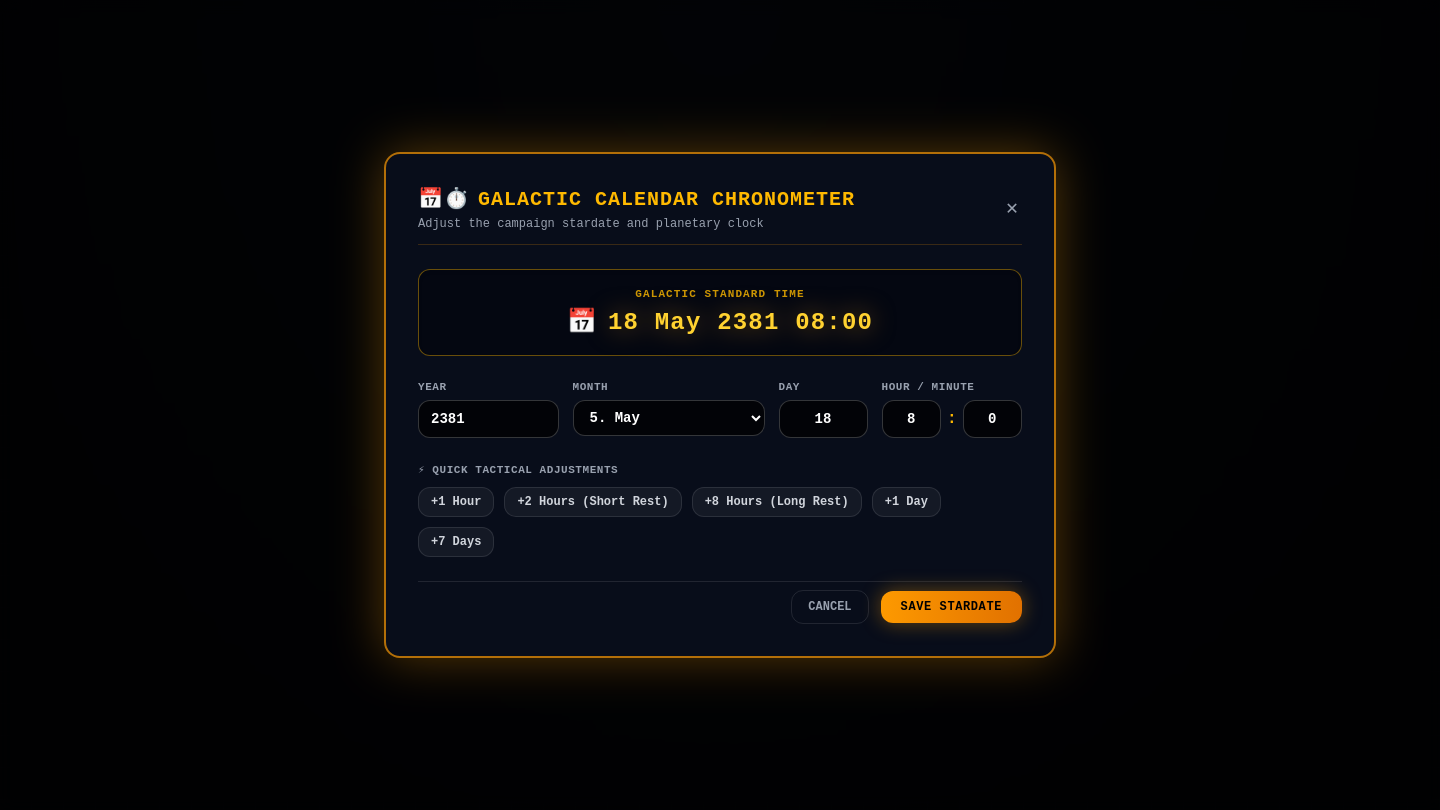
Scenario: DMCalendarModal - Manual Stardate & Chronometer Controller › updates live preview when quick adjustment buttons are clicked
Click the button "+1 Hour" at point(456, 502), box [418,487,494,517]
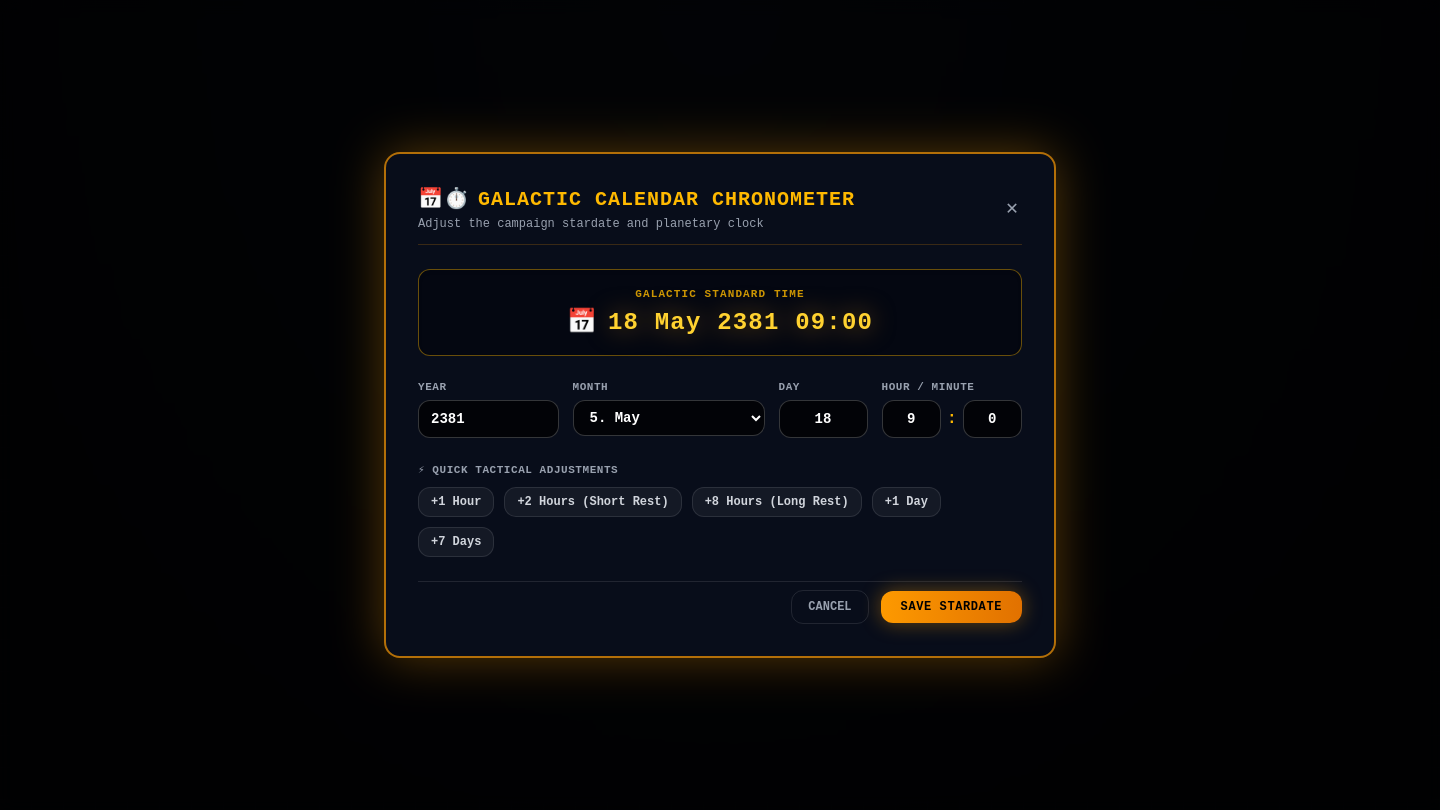
Now the text "18 May 2381 09:00" is shown, box [608,307,873,339]
Click the button "+8 Hours (Long Rest)" at point(777, 502), box [692,487,862,517]
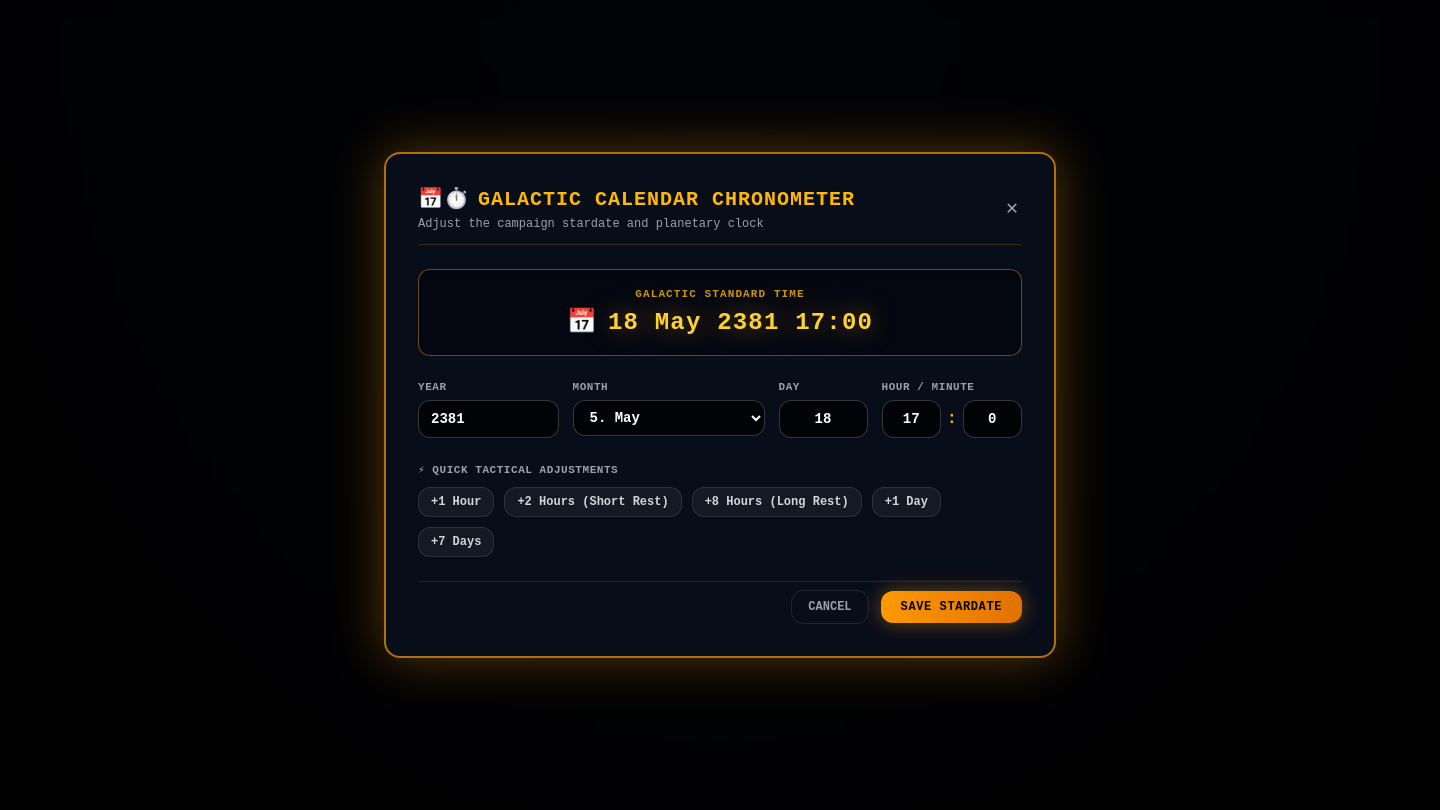
Now the text "18 May 2381 17:00" is shown, box [608,307,873,339]
Click the button "+1 Day" at point(906, 502), box [872,487,941,517]
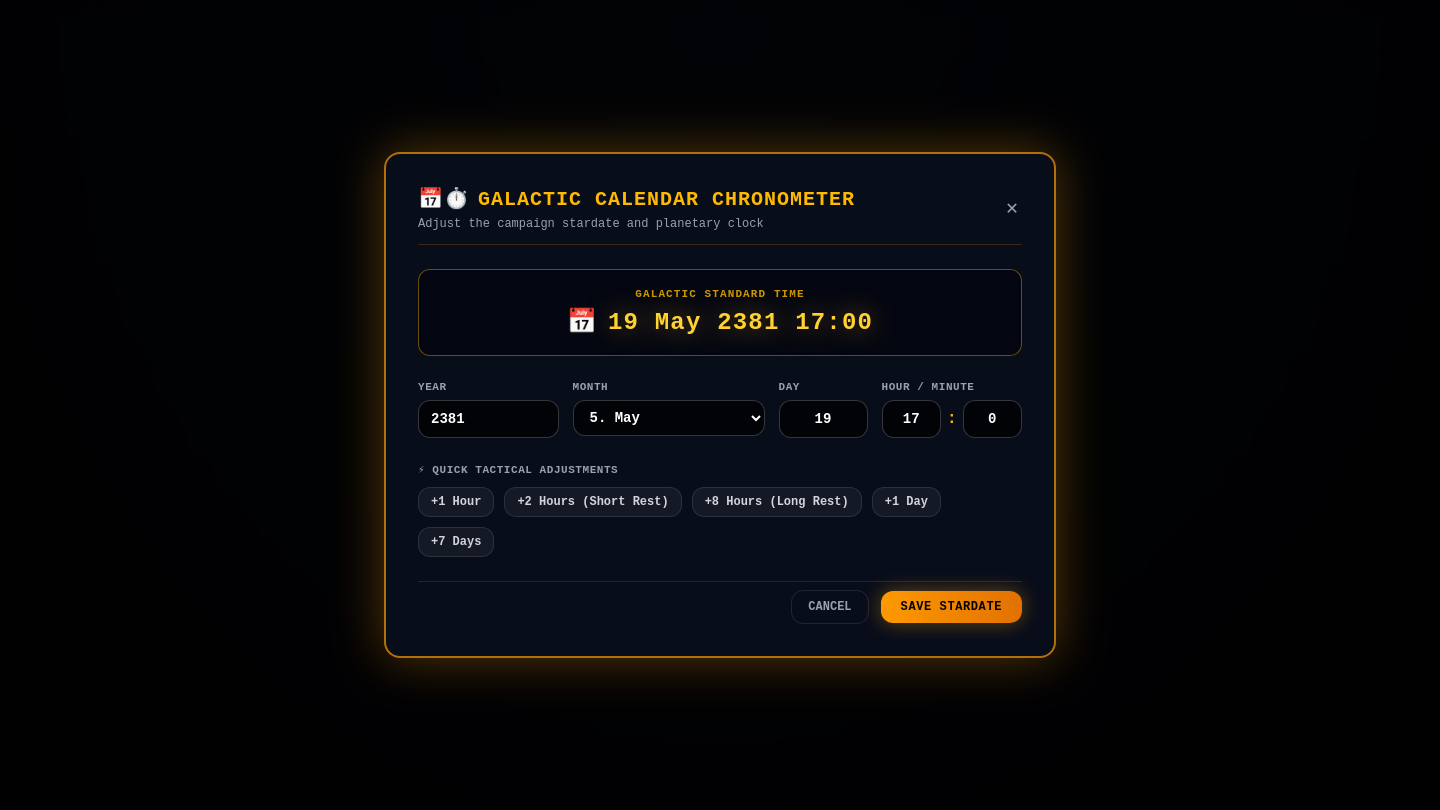
Now the text "19 May 2381 17:00" is shown, box [608,307,873,339]
